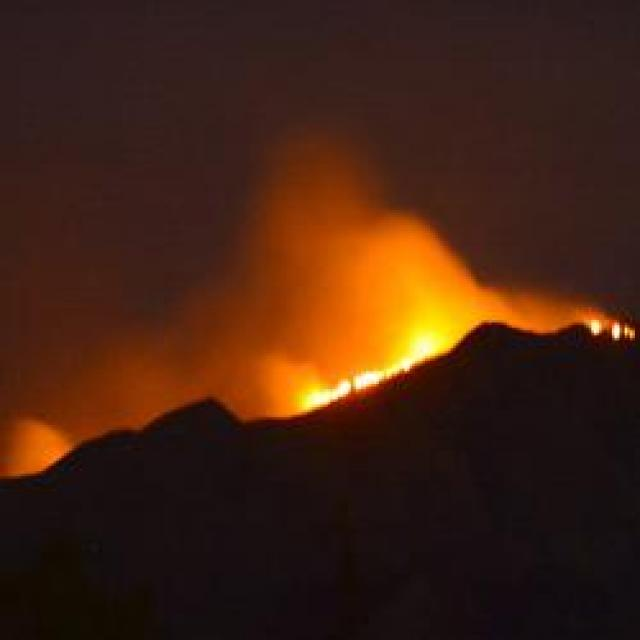fire: (292, 324, 470, 422), (567, 310, 639, 347)
